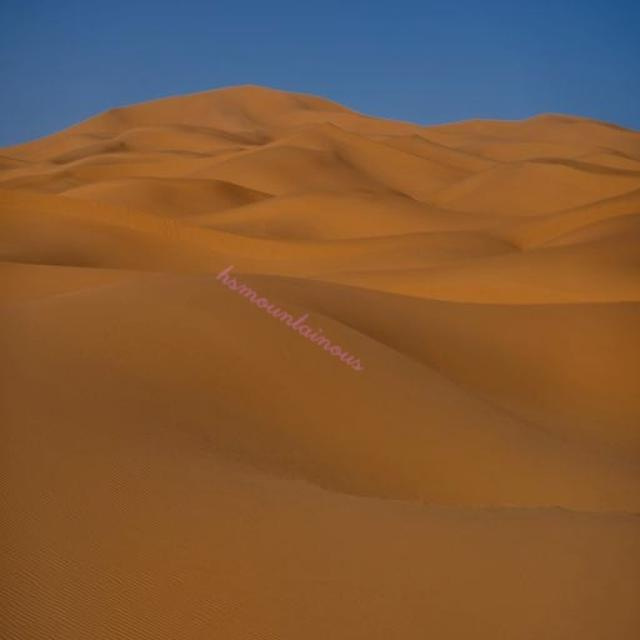watermark: (209, 256, 380, 376)
